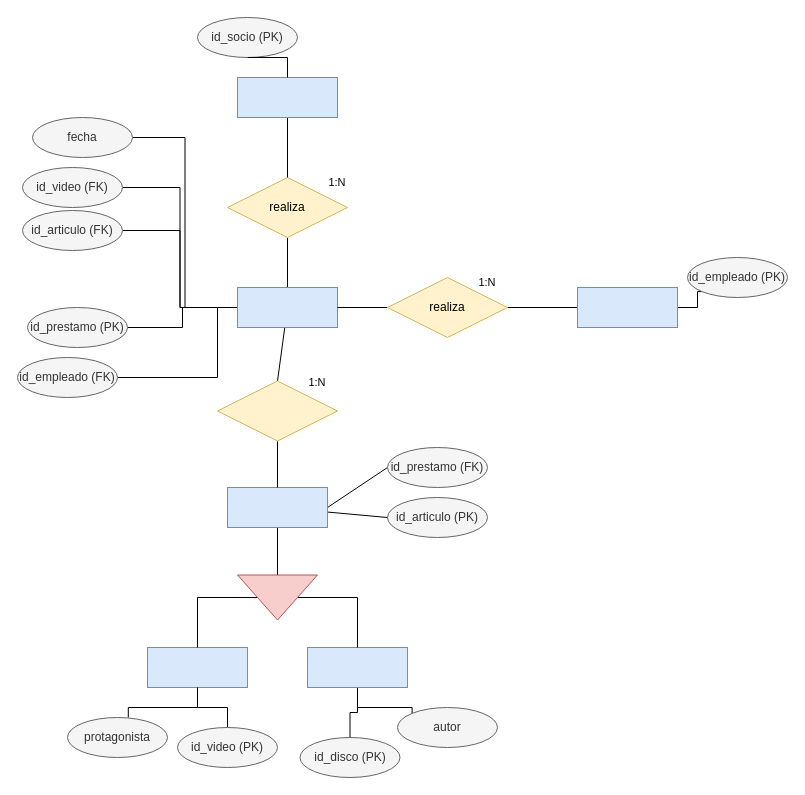
The diagram is 805 pixels wide and 795 high, and some of its shapes have lost their labels. Each missing label, with the box of its shape:
ARTICULO: (226, 486, 328, 528)
DISCO: (306, 646, 408, 688)
EMPLEADO: (576, 286, 678, 328)
existe: (216, 380, 338, 441)
PRÉSTAMO: (236, 286, 338, 328)
SOCIO: (236, 76, 338, 118)
VIDEO: (146, 646, 248, 688)
